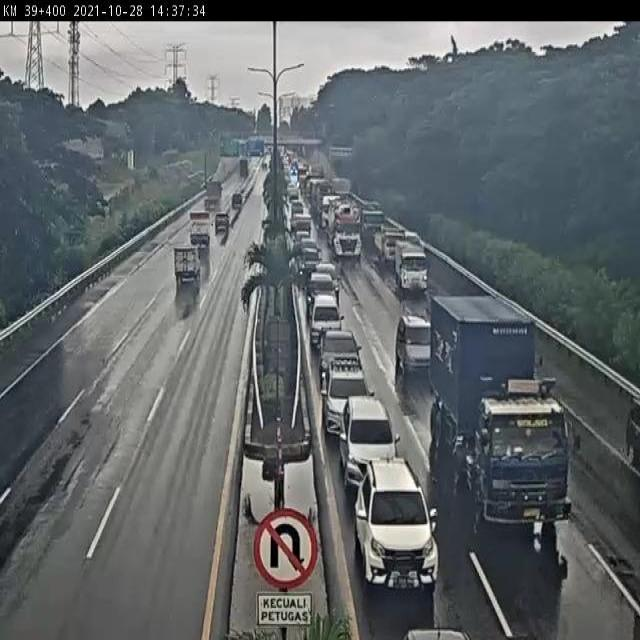big truck: (468, 330, 585, 534), (335, 211, 361, 253)
car: (361, 484, 440, 588), (345, 410, 396, 478), (328, 364, 369, 440), (317, 328, 366, 372), (394, 313, 430, 363), (311, 288, 339, 341), (622, 409, 640, 472), (309, 269, 335, 296), (210, 212, 229, 235), (303, 244, 320, 269), (230, 192, 243, 212)
small truck: (395, 245, 423, 287), (172, 248, 202, 287), (187, 206, 216, 242), (378, 224, 400, 259), (203, 183, 220, 204)
